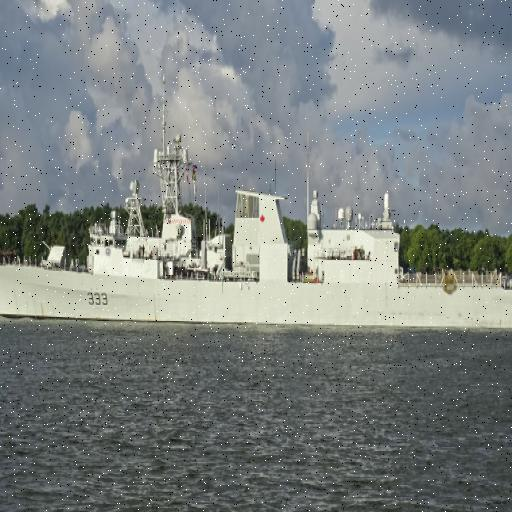Fragata: (1, 82, 512, 325)
